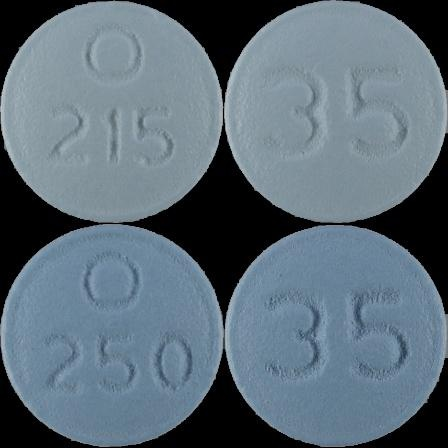50458-191: (0, 0, 224, 224)
